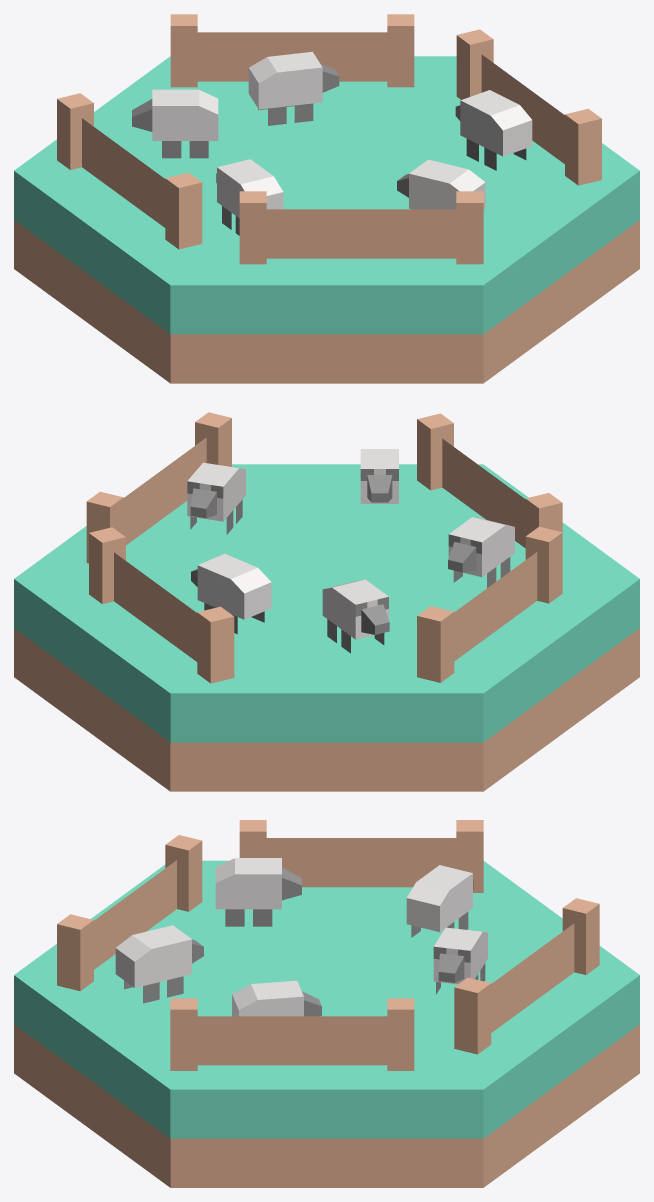
Rendered from sheep.glb.
The picture shows the model from 3 angles, top to bottom: view 1: azimuth 30°, elevation 25°; view 2: azimuth 150°, elevation 25°; view 3: azimuth 270°, elevation 25°; orthographic projection.
Visible parts, largest first — view 1: building_sheep, fence (×4), sheep (×5); view 2: building_sheep, fence (×4), sheep (×5); view 3: building_sheep, fence (×4), sheep (×5).
Boxes of the visible parts, <box> form: building_sheep: <box>14,56,639,383</box>; fence (×4): <box>57,14,601,264</box>; sheep (×5): <box>132,51,532,235</box>; building_sheep: <box>14,464,639,791</box>; fence (×4): <box>86,412,562,683</box>; sheep (×5): <box>187,449,514,653</box>; building_sheep: <box>14,860,639,1187</box>; fence (×4): <box>57,820,599,1070</box>; sheep (×5): <box>115,858,487,1016</box>.
Size of the model in its own units: 1 by 0.325 by 1.15.
